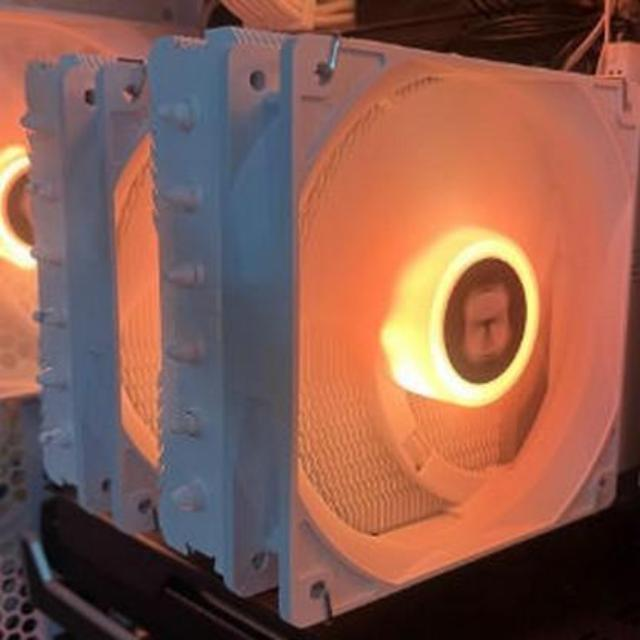CPU_Fan: (20, 14, 635, 616)
